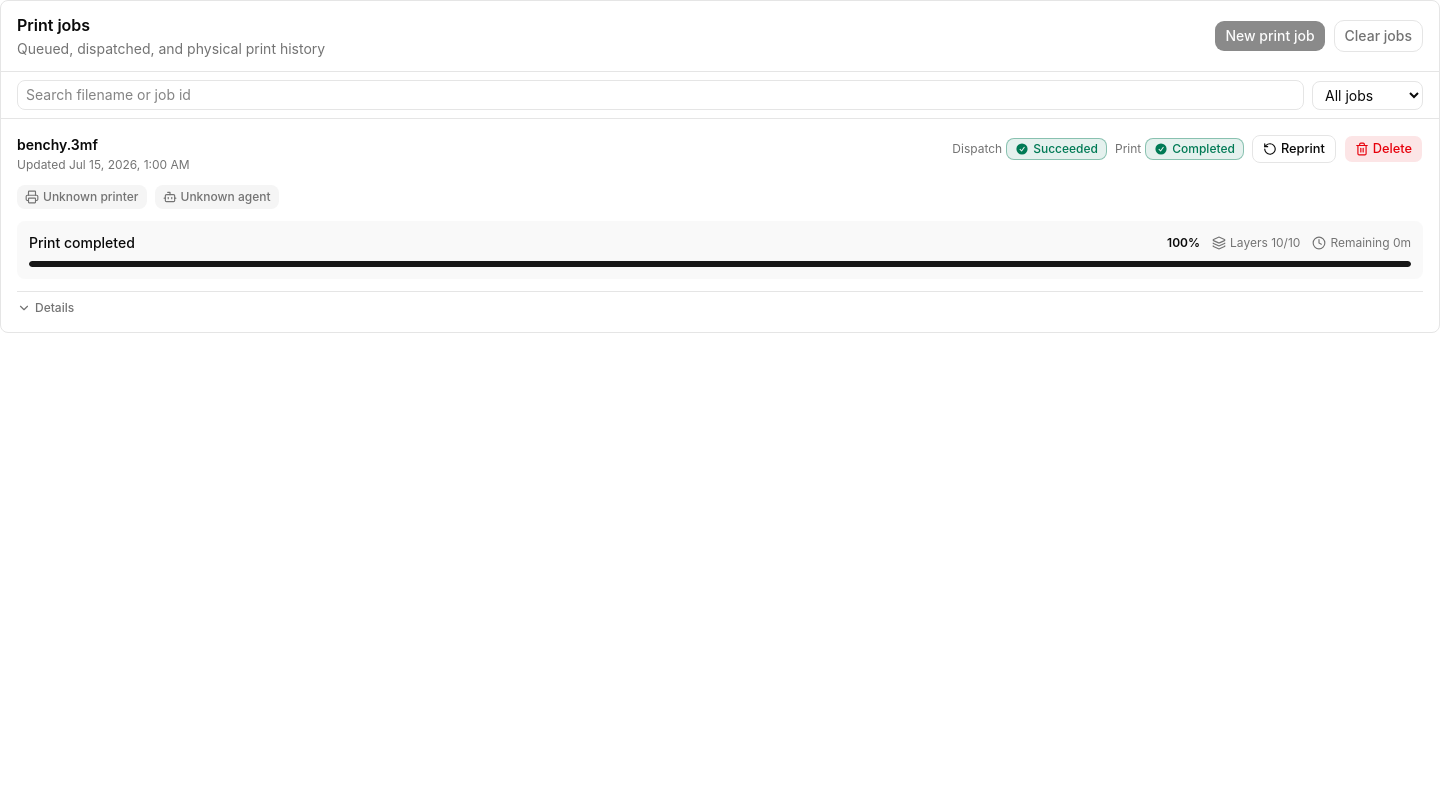
Scenario: JobHistory row actions › confirms the selected job and can cancel without a request
Click the button with aria-label "Delete benchy.3mf" at (1383, 149), box top-left (1344, 135), bottom-right (1423, 163)
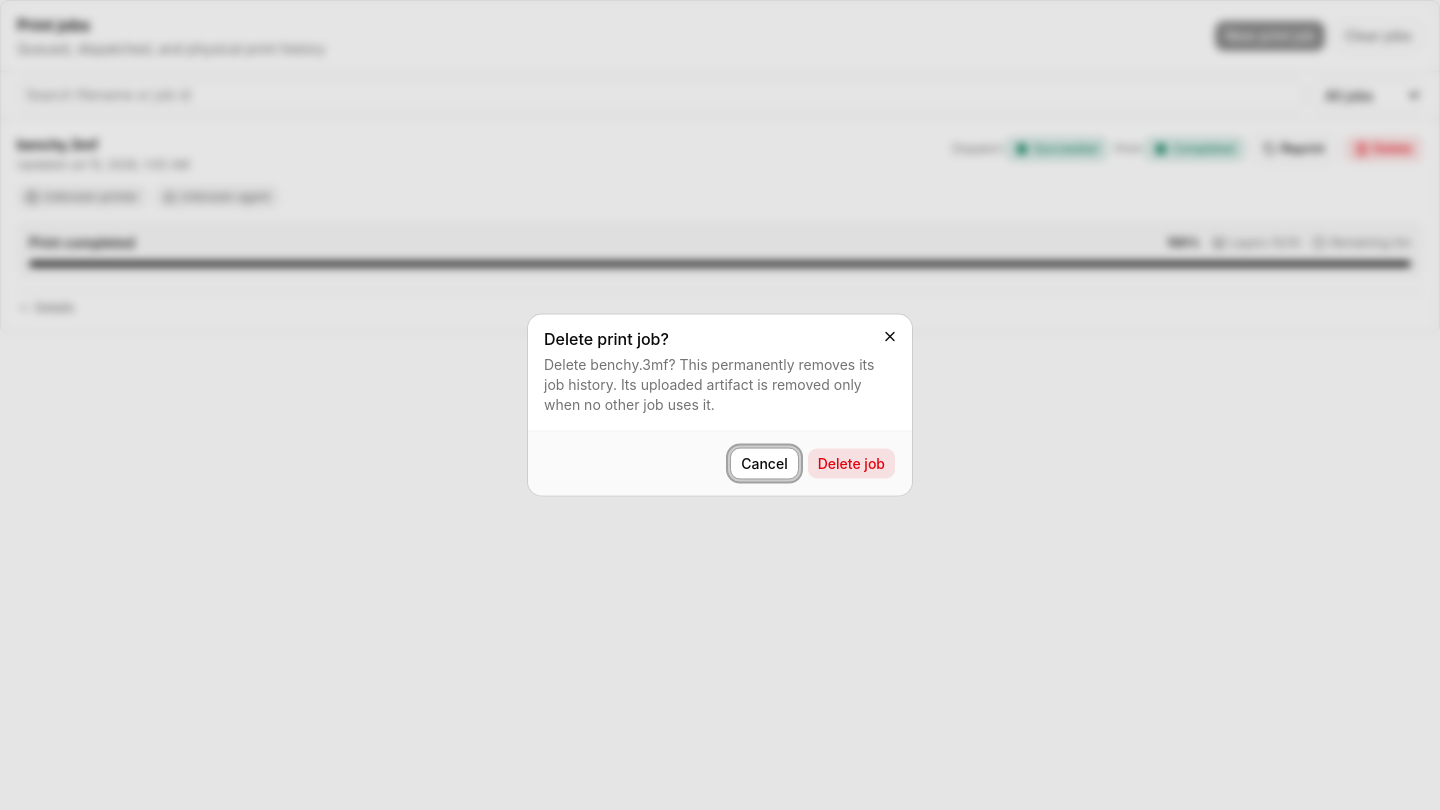
Expected: the dialog is shown, top-left (528, 314), bottom-right (912, 496)
Expected: the heading "Delete print job?" is shown, top-left (544, 328), bottom-right (669, 348)
Expected: the text "Delete benchy.3mf? This permanently removes its job history. Its uploaded artifact is removed only when no other job use" is shown, top-left (544, 356), bottom-right (874, 412)
Click the button "Cancel" at (764, 464), box top-left (730, 448), bottom-right (799, 480)
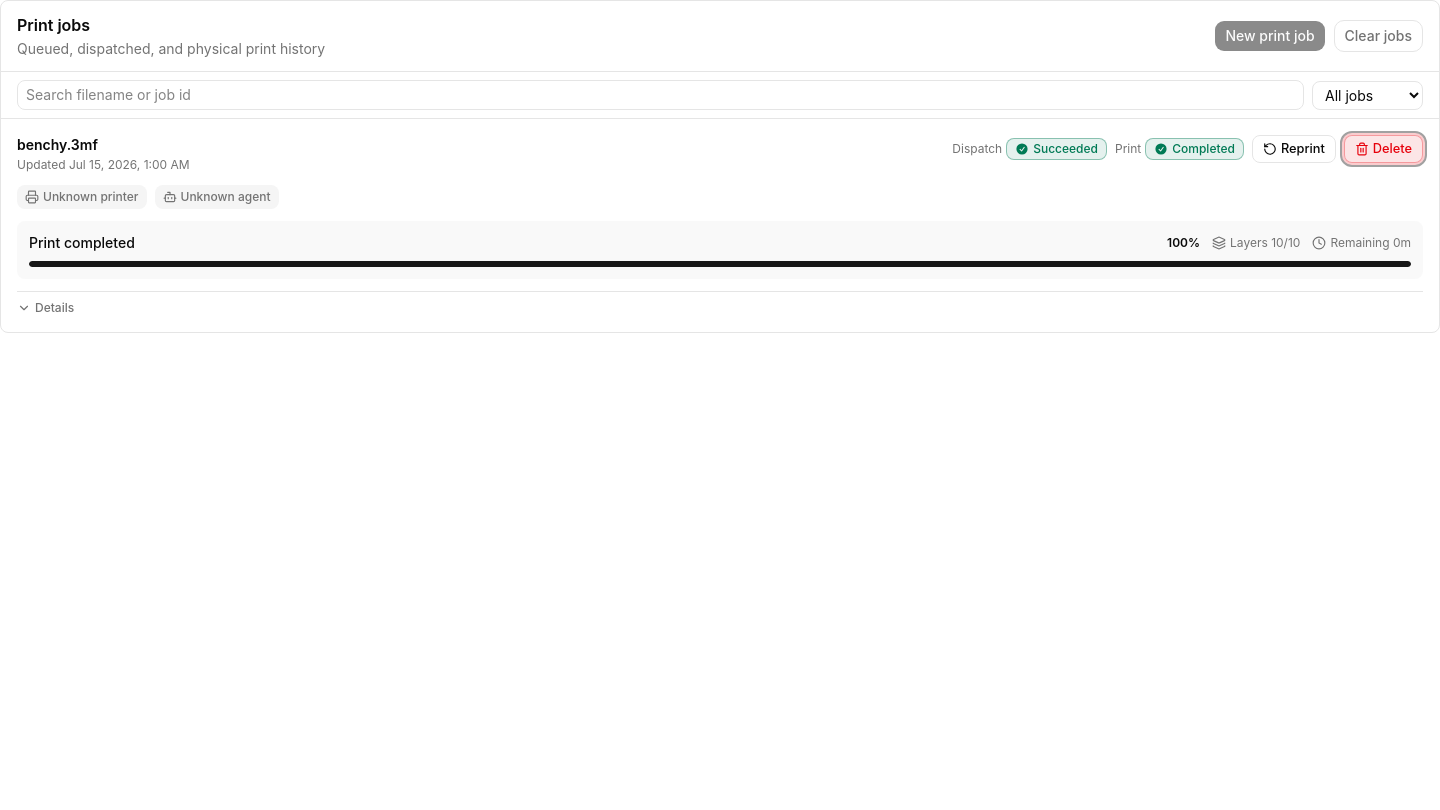
Expected: the dialog is gone
